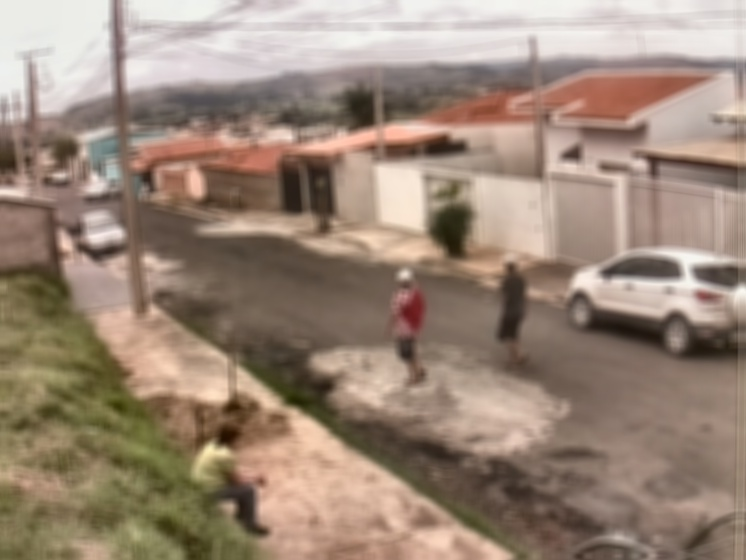person: (190, 423, 272, 537), (384, 270, 427, 383), (495, 255, 528, 368)
